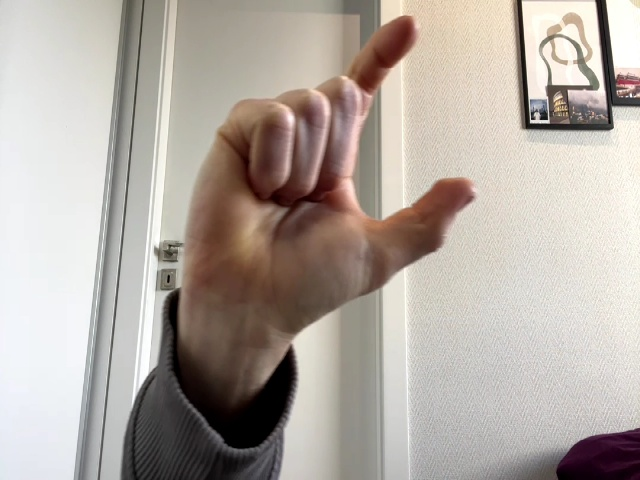C: (184, 16, 475, 337)
